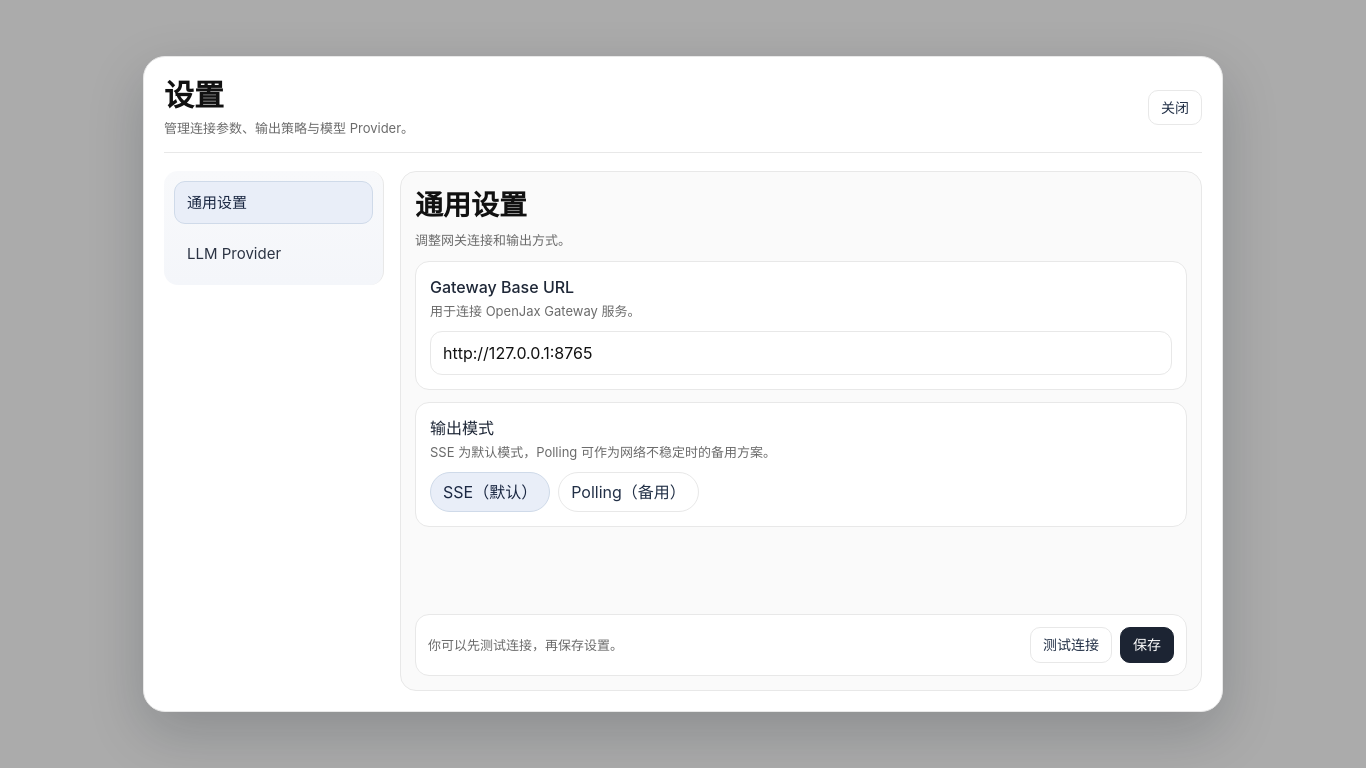
Scenario: SettingsModal › shows provider switch toast and auto dismisses it
Click the button "LLM Provider".
click(274, 253)  # box [174, 232, 373, 275]
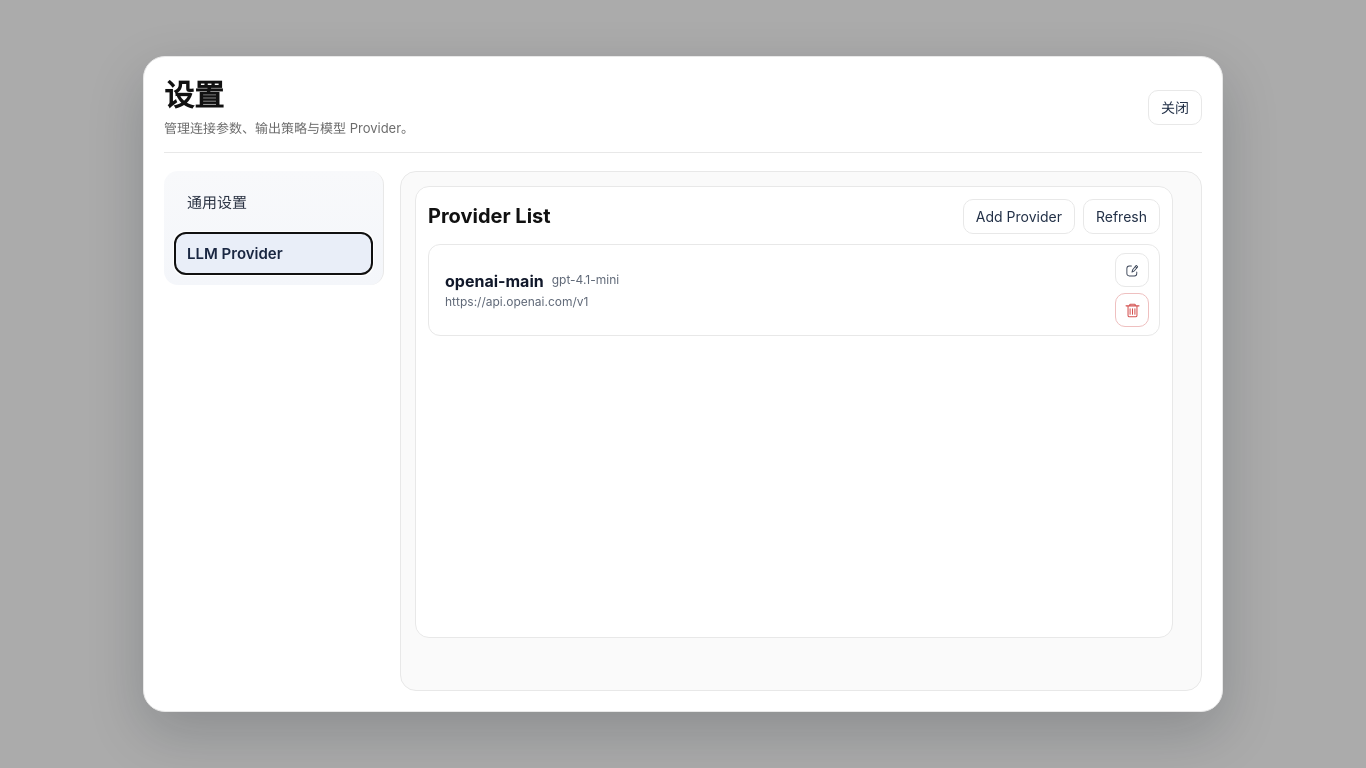
Expected: the text "openai-main" is shown, [445, 270, 544, 292]
Click the button "openai-main gpt-4.1-mini https://api.openai.com/v1".
click(494, 281)  # box [437, 253, 1107, 327]
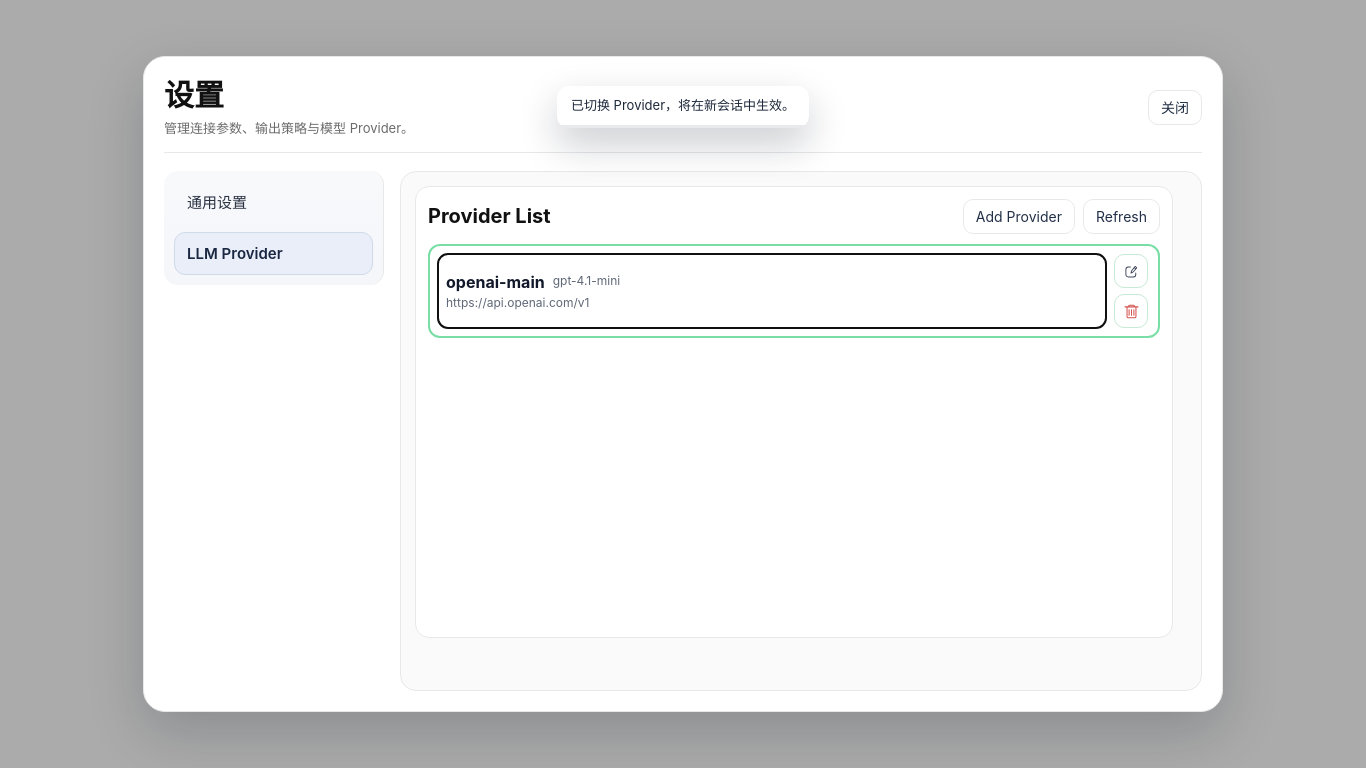
Expected: the text "已切换 Provider，将在新会话中生效。" is shown, [571, 97, 795, 113]
